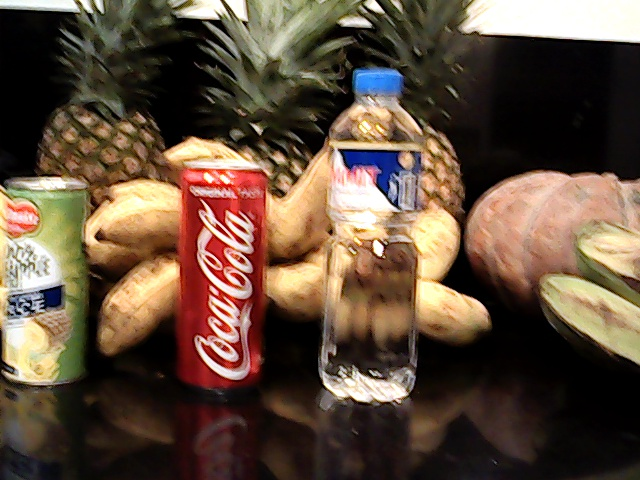Cola: (177, 160, 265, 380)
Pine Juice: (1, 179, 94, 382)
Summit Water: (320, 63, 419, 398)
